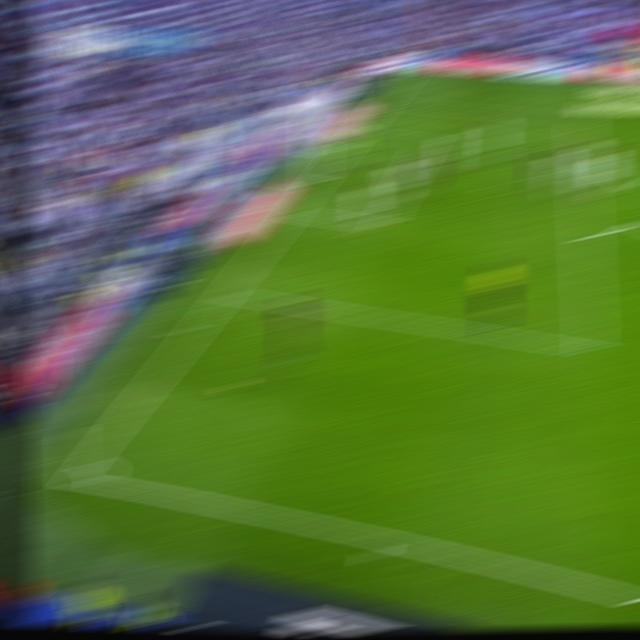bigarea_bottom_inner: (575, 329, 605, 360)
bottom_arc_area_intersection: (214, 286, 237, 300)
corner: (400, 70, 422, 75)
smallarea_top_outter: (348, 127, 370, 138)
